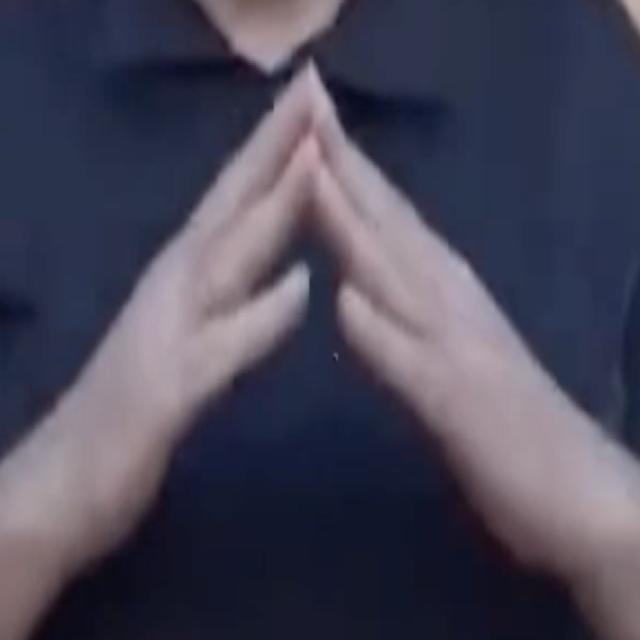casa: (86, 54, 554, 596)
